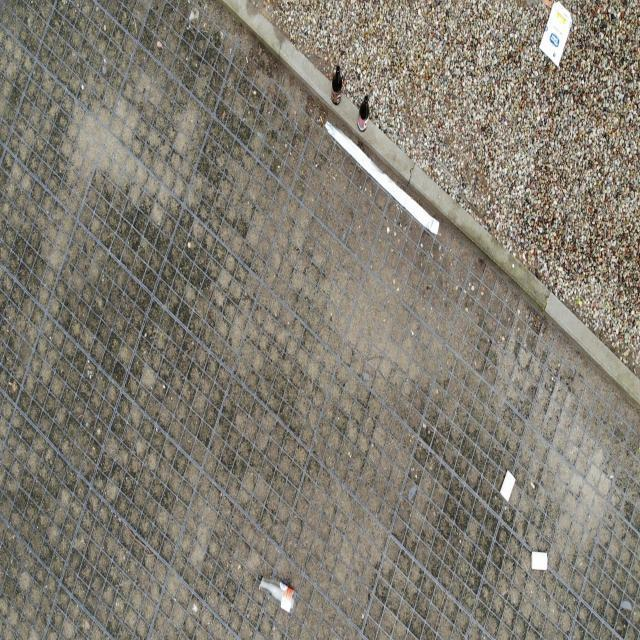rubbish: (324, 121, 441, 236), (538, 0, 575, 67), (260, 574, 298, 616), (498, 469, 516, 504), (356, 97, 370, 129), (331, 67, 342, 104), (530, 550, 548, 572)
